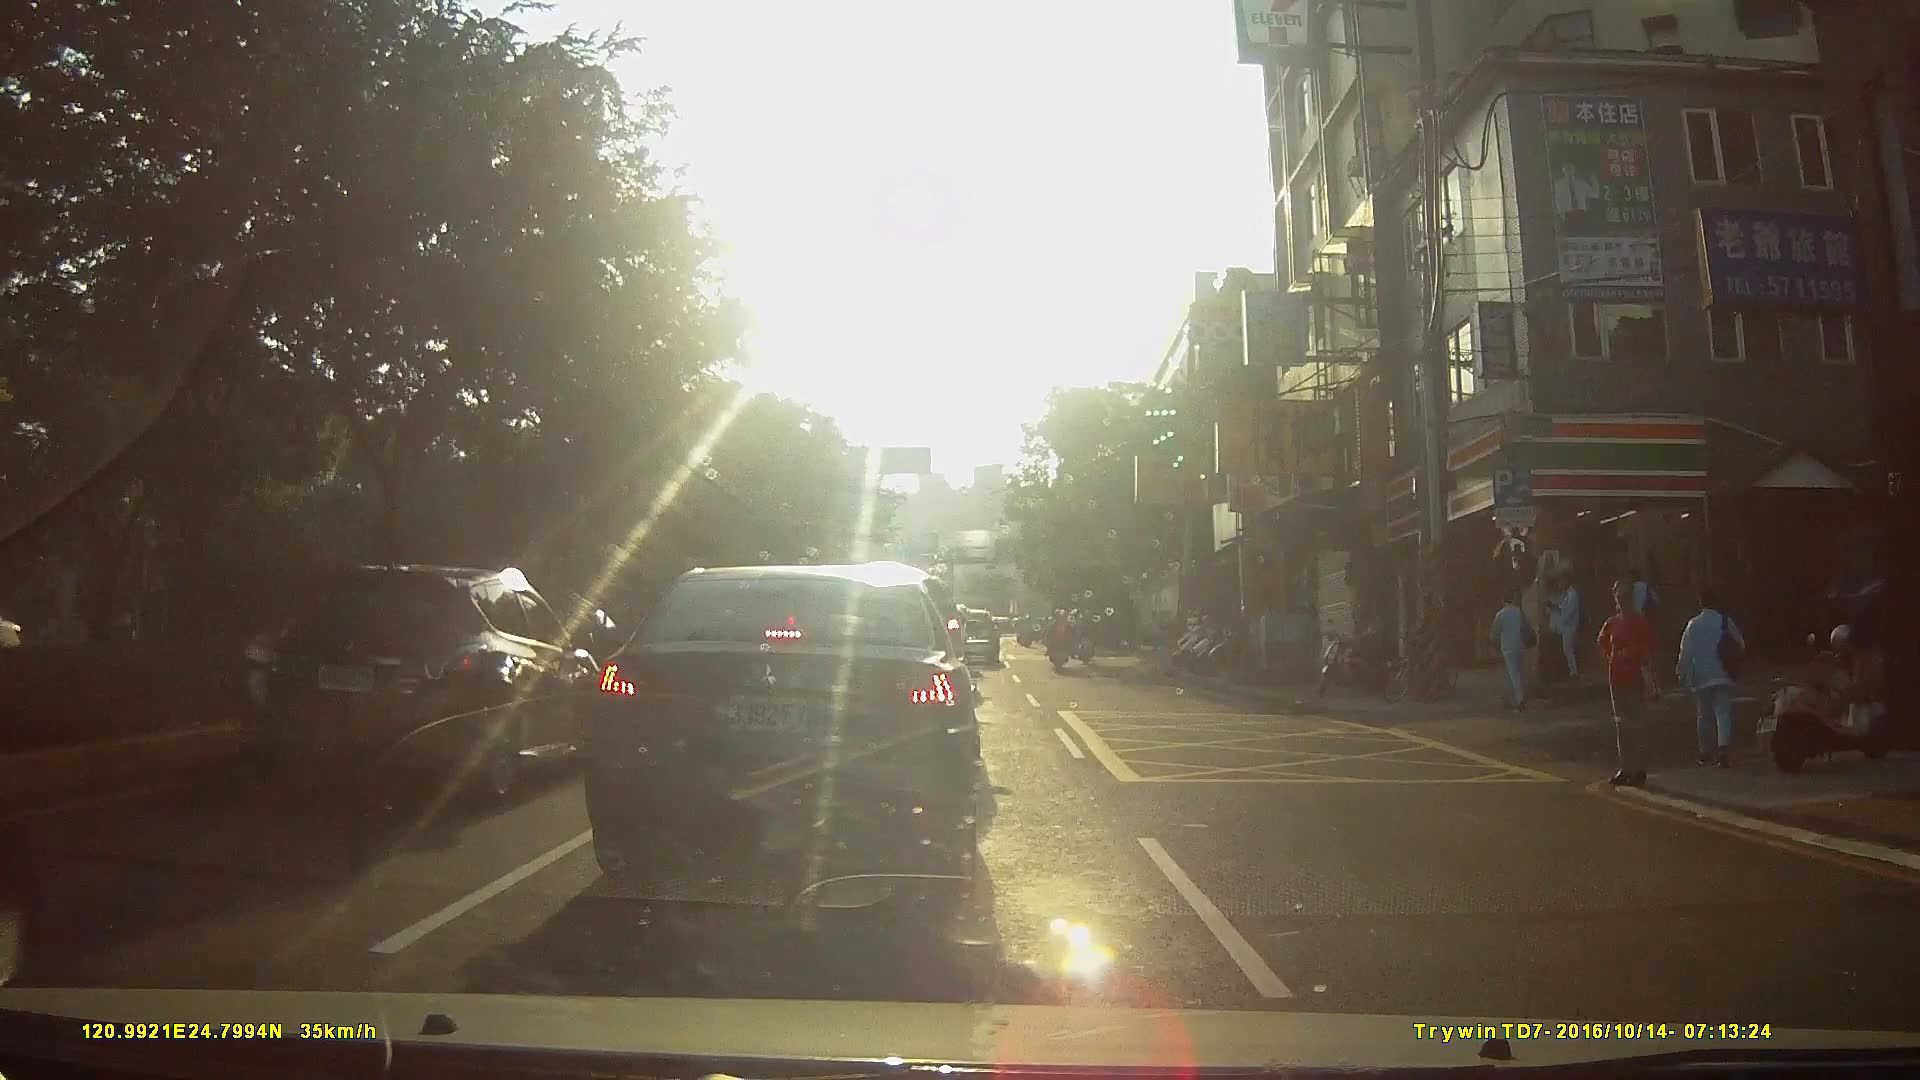pedestrian: (1670, 582, 1744, 764), (1593, 582, 1659, 787), (1489, 586, 1542, 713), (1549, 571, 1589, 679)
rider: (1046, 609, 1077, 673), (1065, 607, 1091, 660)
vehicle: (581, 563, 1003, 887), (231, 560, 618, 818)
